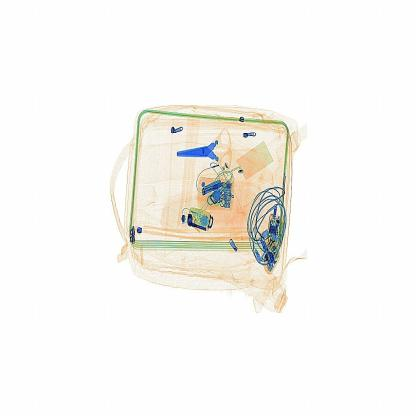gun: (171, 115, 258, 190)
